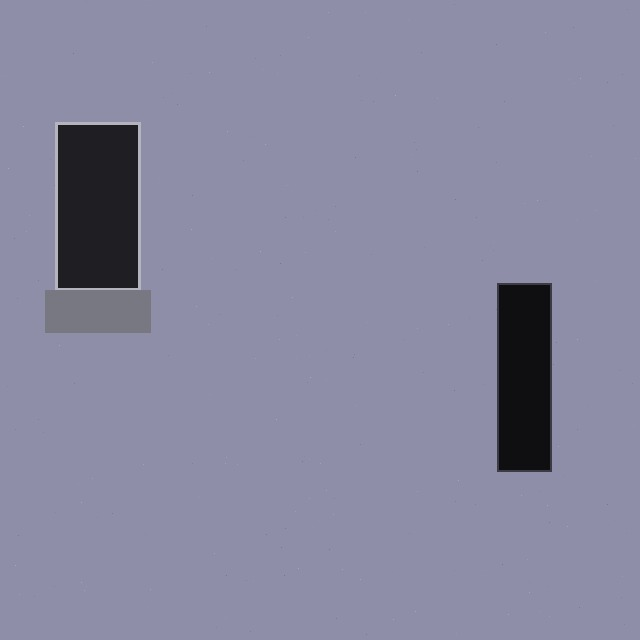laptop: (55, 122, 140, 332)
phone: (497, 283, 606, 471)
